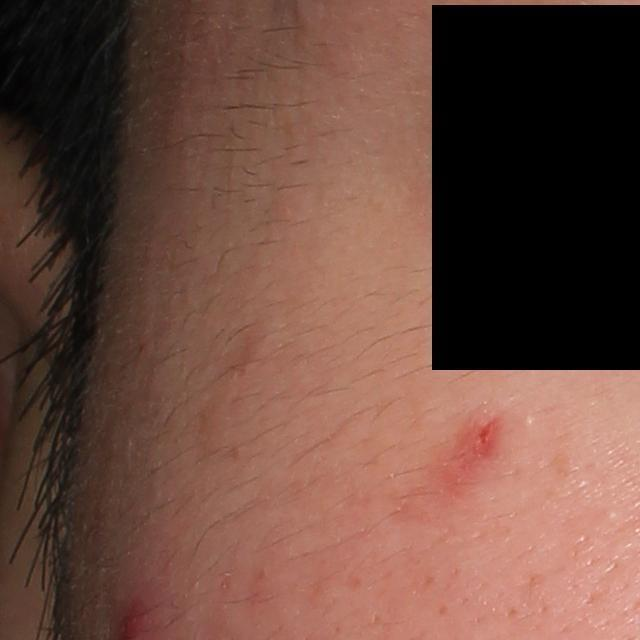papule: (466, 416, 501, 461)
